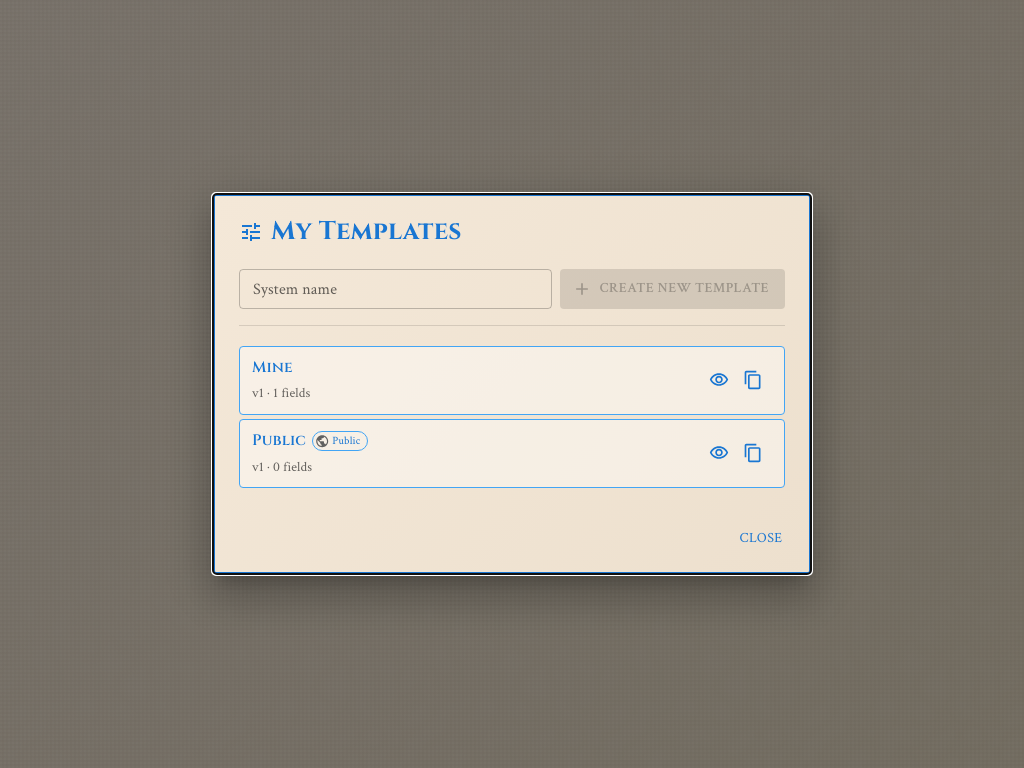
Test: every template gets the eye, which opens its sheet
Expected: the number of icons with test id "VisibilityOutlinedIcon" is 2, [709, 370, 729, 390]; [709, 443, 729, 463]
Click the button with test id "VisibilityOutlinedIcon" at point(719, 380), box [704, 365, 734, 395]
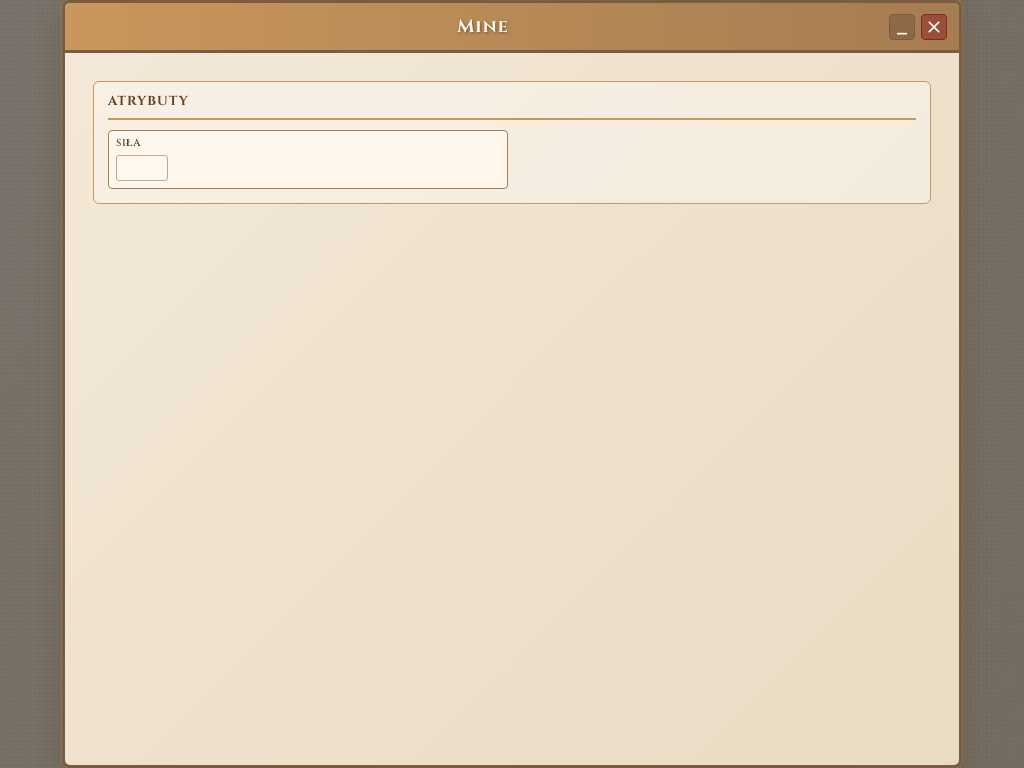
Result: the heading with class "modal-header__title" reads "Mine" at [457, 14, 509, 39]
Result: the element with class "character-sheet-popup" shows "Siła" at [116, 136, 141, 150]
